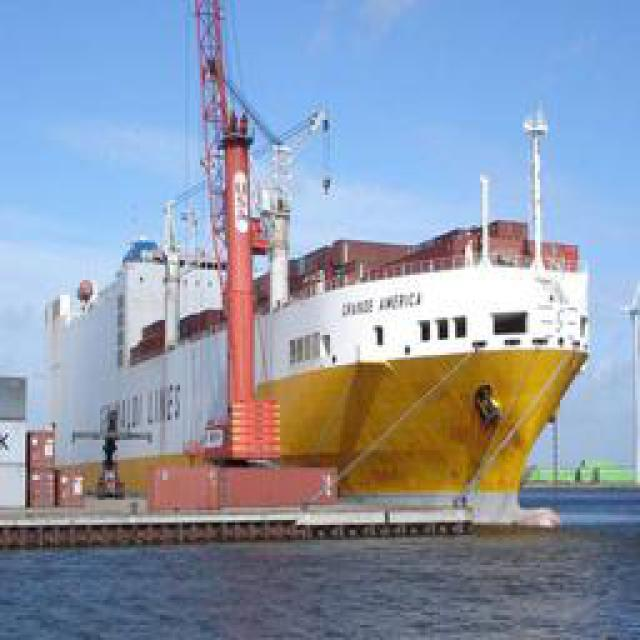Ship: (28, 42, 613, 525)
